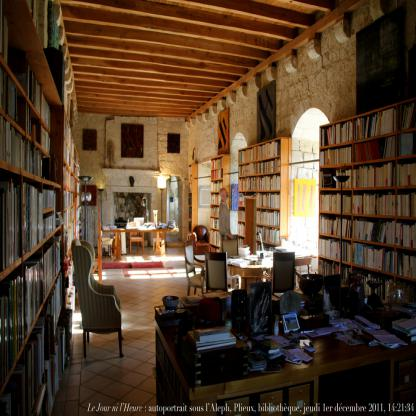book: (306, 78, 414, 320), (239, 144, 279, 250)
